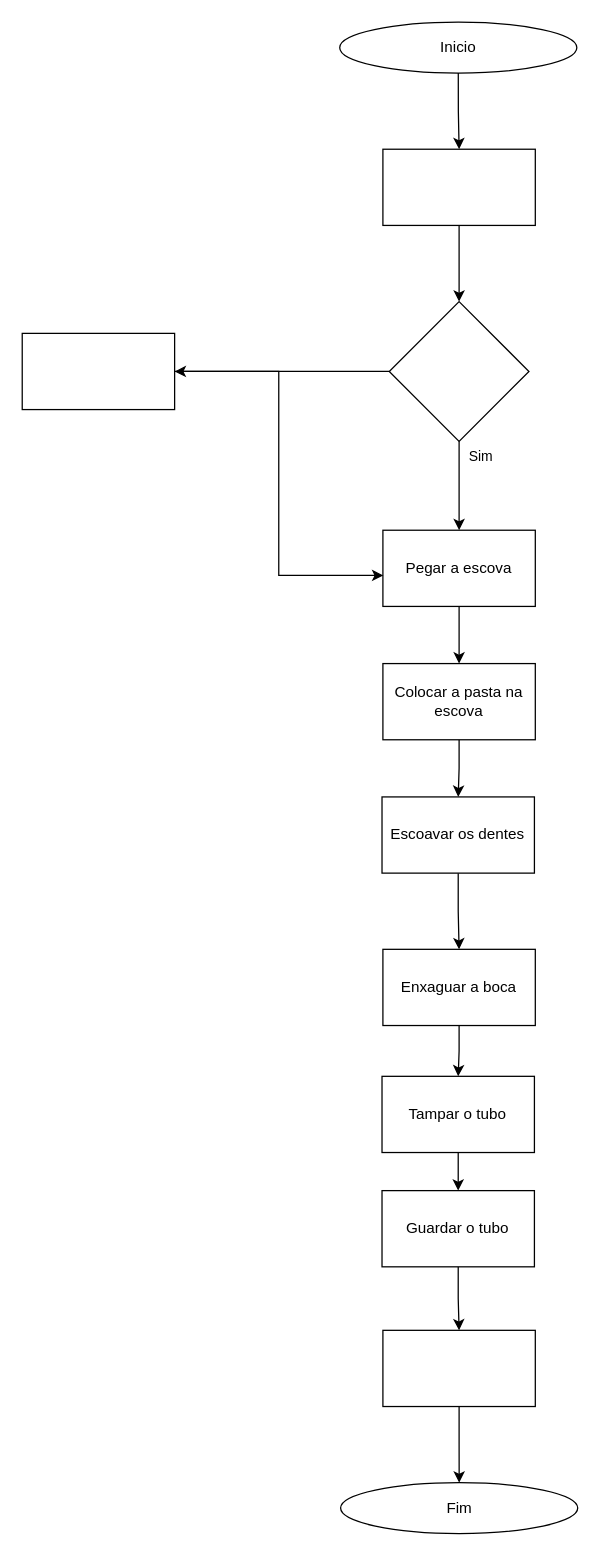
Image size: 601x1556. Some labels were removed from this diagram. The centre of each missing label's shape, as x and y in pixels:
"Abrir o tubo" belongs at (x=98, y=371).
"Guardar a escova" belongs at (x=458, y=1368).
"Pegar o creme dental" belongs at (x=458, y=186).
"Tubo está Aberto?" belongs at (x=458, y=370).
